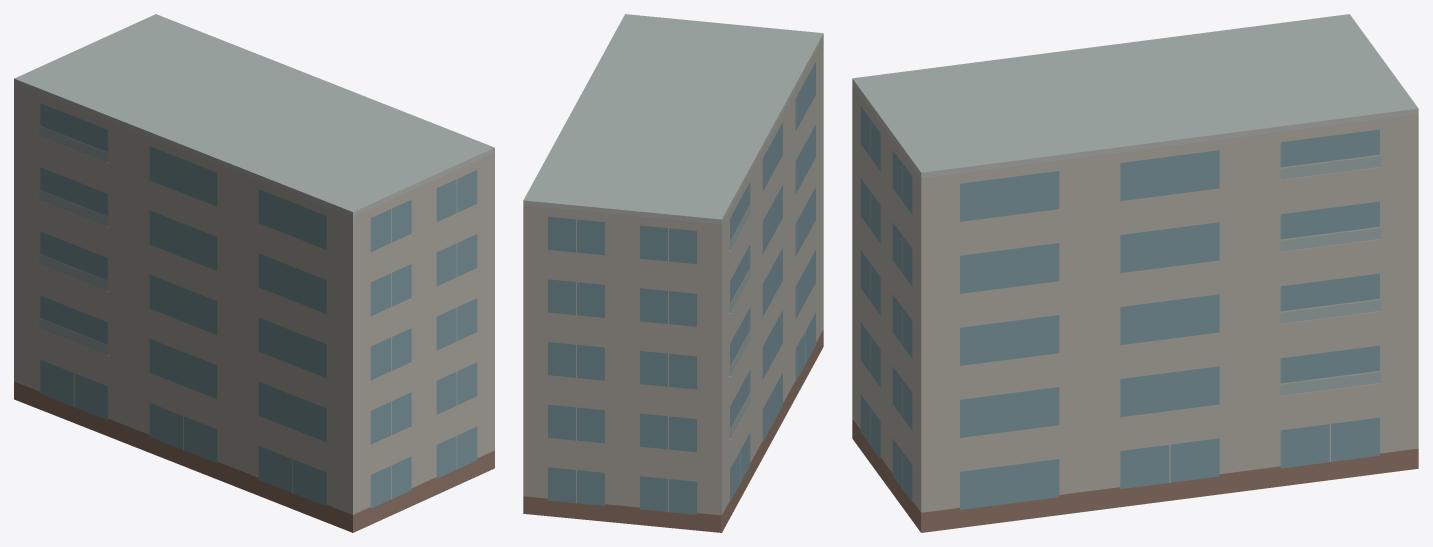
File: survey-upis-32621136.glb
The picture shows the model from 3 angles, left to right: view 1: azimuth 30°, elevation 25°; view 2: azimuth 150°, elevation 25°; view 3: azimuth 270°, elevation 25°; orthographic projection. The views are drawn at different scales.
Parts seen in each view (by area): view 1: survey-upis-32621136.tmp; view 2: survey-upis-32621136.tmp; view 3: survey-upis-32621136.tmp.
Part boxes in pixels (box(x1,y1,x2,y2)): survey-upis-32621136.tmp: box(14, 14, 494, 532); survey-upis-32621136.tmp: box(523, 14, 823, 532); survey-upis-32621136.tmp: box(852, 14, 1418, 532).
Size of the model in its own units: 15.33 by 16.2 by 23.1.
